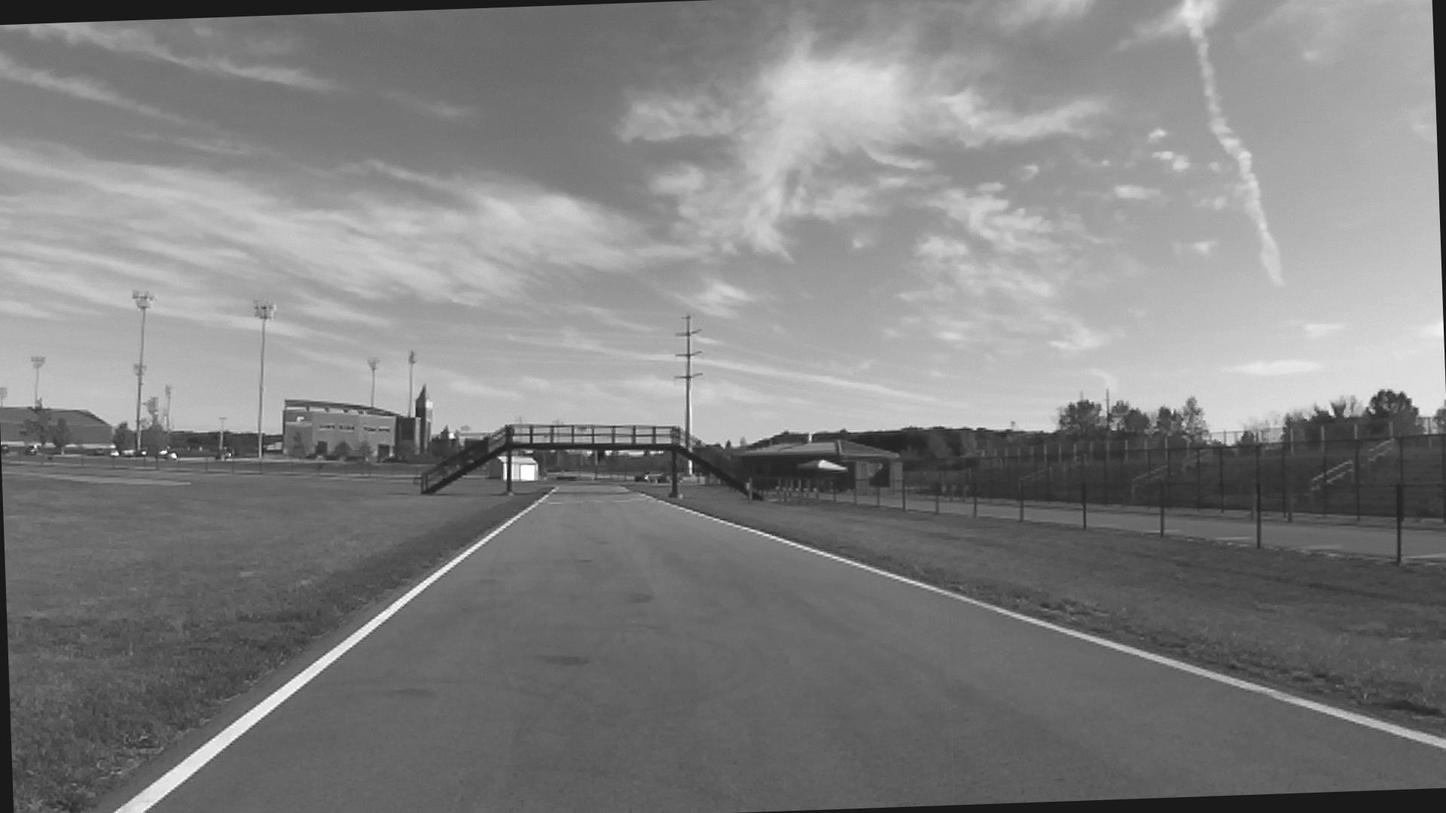white-line: (663, 502, 1446, 750), (109, 494, 547, 813)
